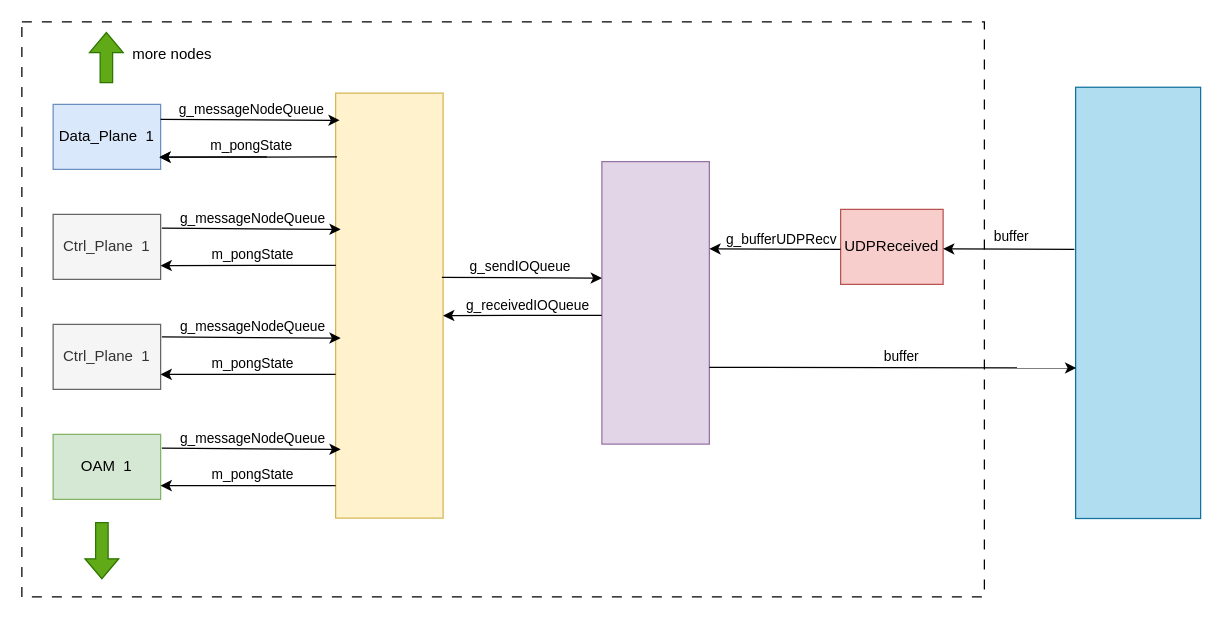
This 1223x619 diagram has some shape labels left out. Here are the shapes that lost their labels. From the top down, the centre of each, then its label:
point 388,305: Node Management
point 655,302: IO Handler
point 1137,302: UDP
